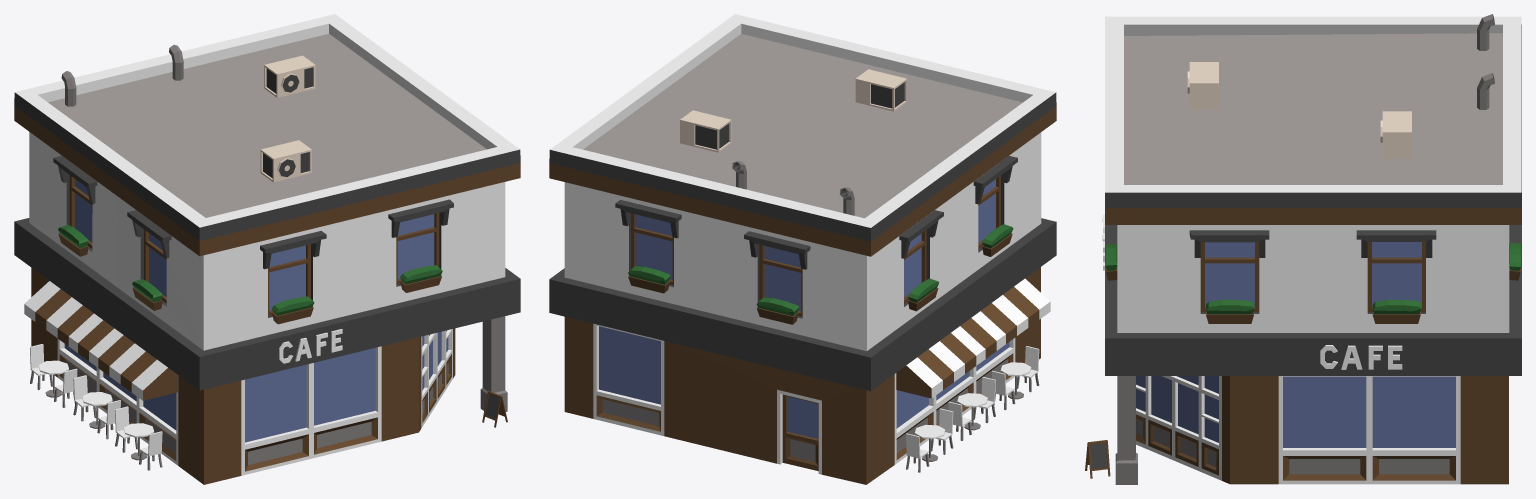
The model's file is building-cafe.fbx.
3 views of the same model, side by side, from view 1: azimuth 30°, elevation 25°; view 2: azimuth 150°, elevation 25°; view 3: azimuth 270°, elevation 25° (orthographic). The views are drawn at different scales.
Parts seen in each view (by area): view 1: building-cafe; view 2: building-cafe; view 3: building-cafe.
Boxes of the visible parts, bbox=[...] form: building-cafe: bbox=[14, 14, 520, 484]; building-cafe: bbox=[549, 14, 1056, 484]; building-cafe: bbox=[1085, 14, 1521, 484].
Size of the model in its own units: 10.85 by 8.49 by 10.48.
